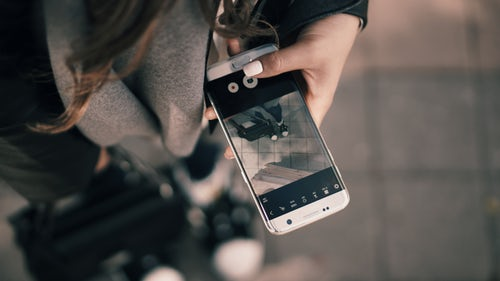phone: (203, 43, 352, 242)
